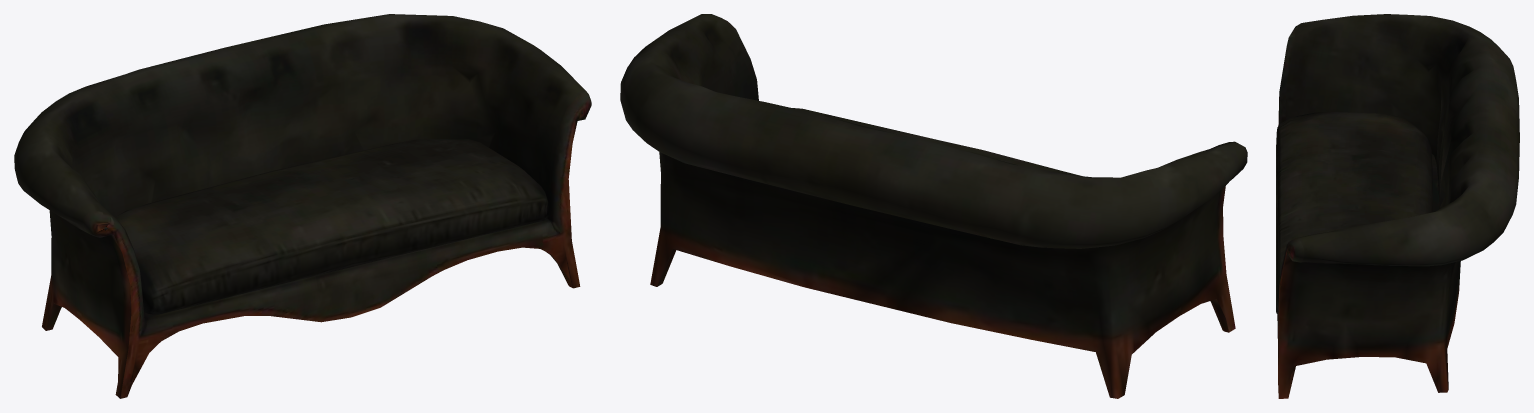
The model's file is sofa.glb.
3 renders of one model, left to right at view 1: azimuth 30°, elevation 25°; view 2: azimuth 150°, elevation 25°; view 3: azimuth 270°, elevation 25°, orthographic. The views are drawn at different scales.
Visible parts, largest first — view 1: sofa_02_Base; view 2: sofa_02_Base; view 3: sofa_02_Base.
Part boxes in pixels (<box>): sofa_02_Base: <box>14,14,591,398</box>; sofa_02_Base: <box>620,14,1247,398</box>; sofa_02_Base: <box>1276,14,1519,398</box>.
Size of the model in its own units: 1.81 by 0.7095 by 0.8157.
1 material, 1 textured.
